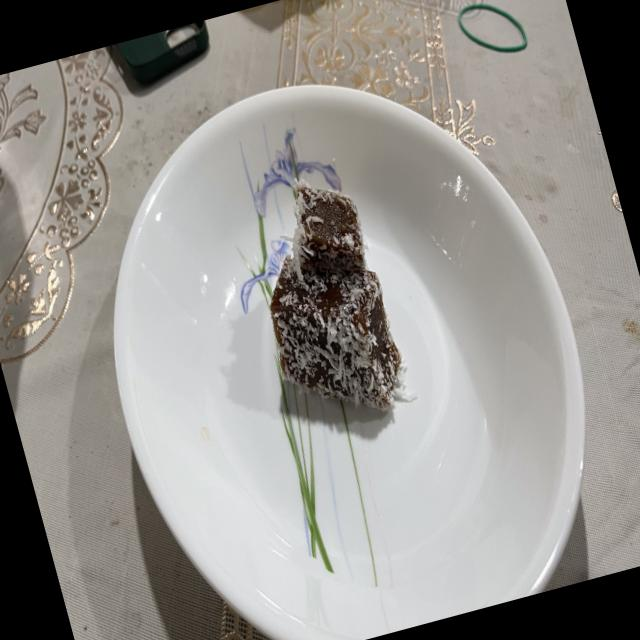kaswi: (271, 253, 402, 411), (290, 180, 371, 272)
